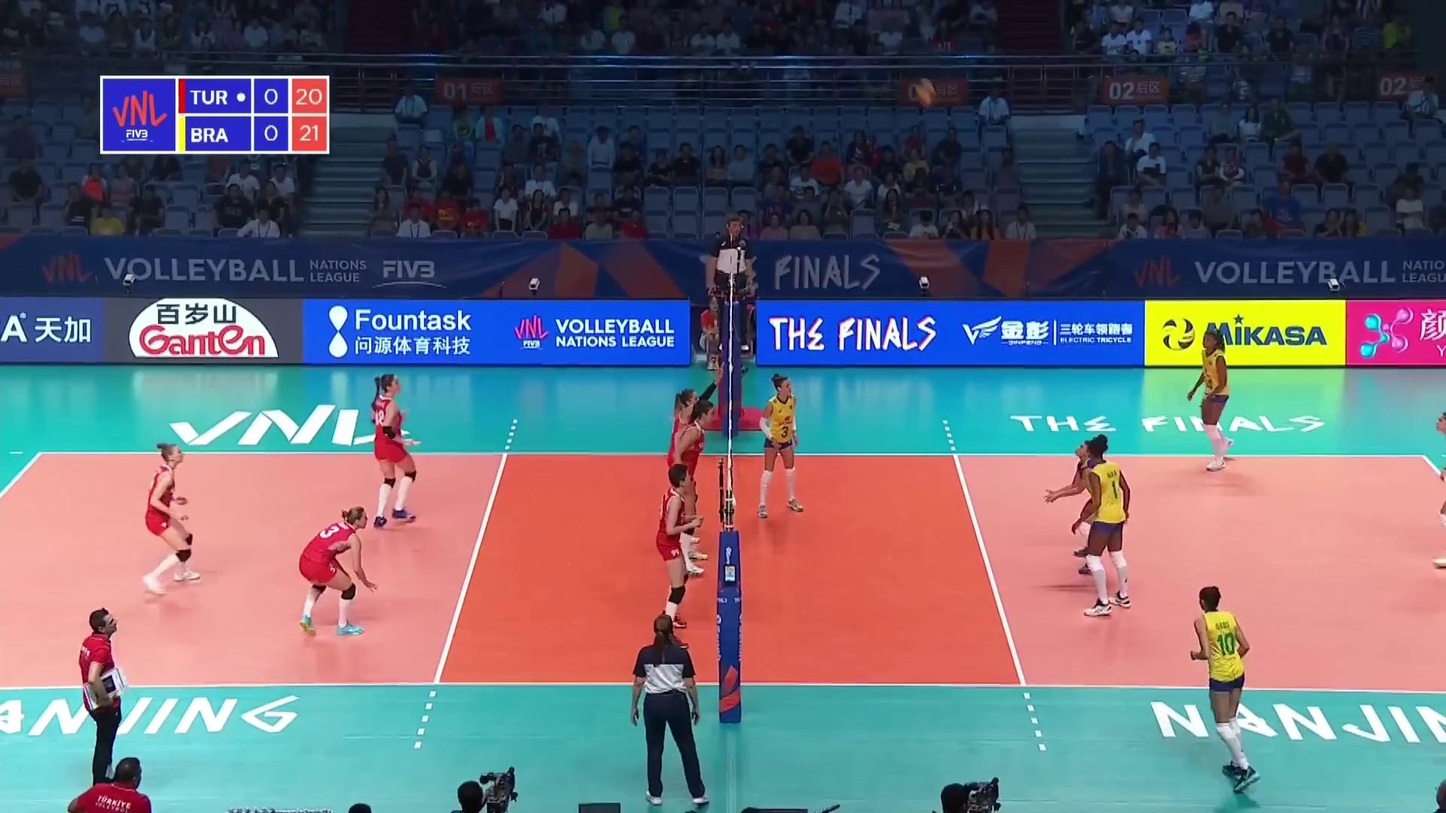player: (1189, 583, 1258, 790), (294, 507, 383, 634), (1083, 441, 1135, 615), (368, 372, 426, 526), (142, 442, 197, 599), (1057, 435, 1115, 577), (672, 402, 715, 572), (1186, 333, 1236, 476), (665, 385, 711, 540), (759, 375, 805, 522), (658, 465, 694, 636)
refree: (628, 618, 705, 804), (710, 215, 756, 352)
